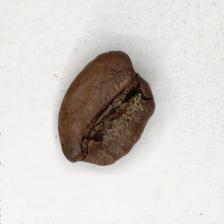NG: (114, 51, 157, 117)
